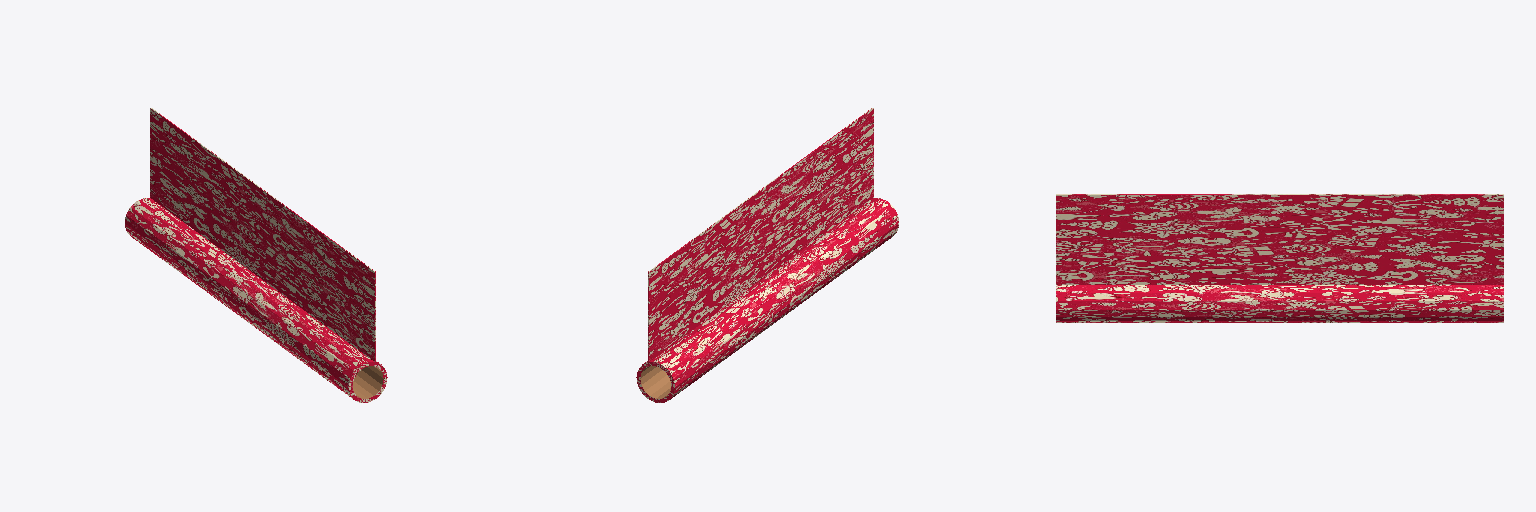
3 renders of one model, left to right at view 1: azimuth 30°, elevation 25°; view 2: azimuth 150°, elevation 25°; view 3: azimuth 270°, elevation 25°, orthographic.
Parts seen in each view (by area): view 1: wrap1; view 2: wrap1; view 3: wrap1.
Boxes of the visible parts, x1,y1,x2,y2 form: wrap1: [125, 108, 387, 402]; wrap1: [636, 108, 898, 402]; wrap1: [1056, 194, 1503, 322].
Size of the model in its own units: 0.5 by 1.59 by 5.
Materials: 2 (2 with a texture image).